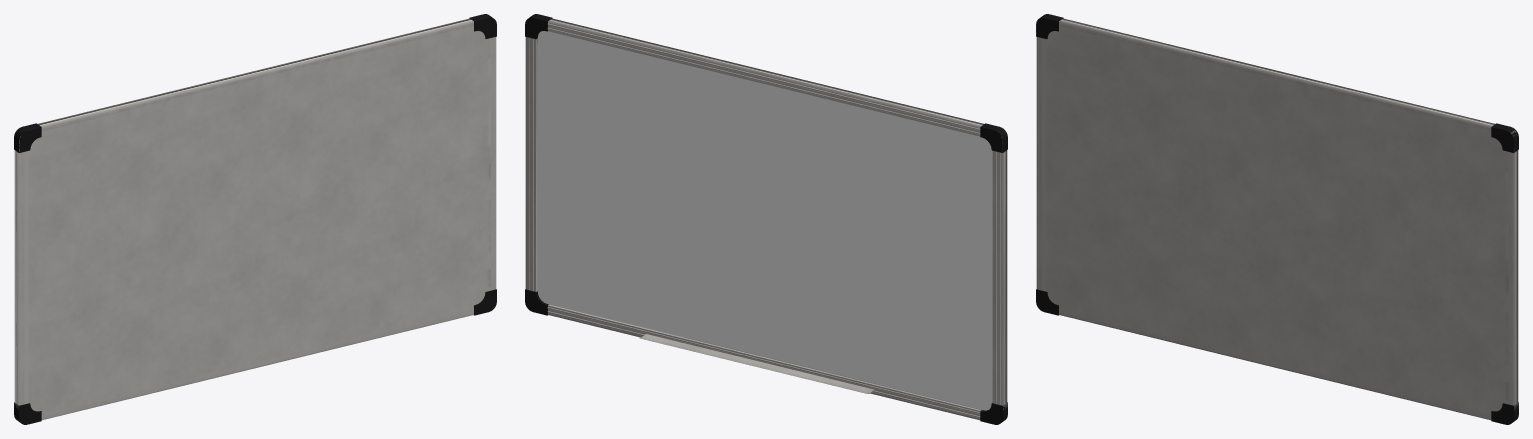
File: whiteboard.glb
The picture shows the model from 3 angles, left to right: view 1: azimuth 30°, elevation 25°; view 2: azimuth 150°, elevation 25°; view 3: azimuth 330°, elevation 25°; orthographic projection.
Parts seen in each view (by area): view 1: whiteboard; view 2: whiteboard; view 3: whiteboard.
Boxes of the visible parts, x1,y1,x2,y2 form: whiteboard: [14, 14, 496, 424]; whiteboard: [525, 14, 1007, 424]; whiteboard: [1036, 14, 1518, 424].
Size of the model in its own units: 300 by 176 by 12.12.
1 material, 1 textured.
